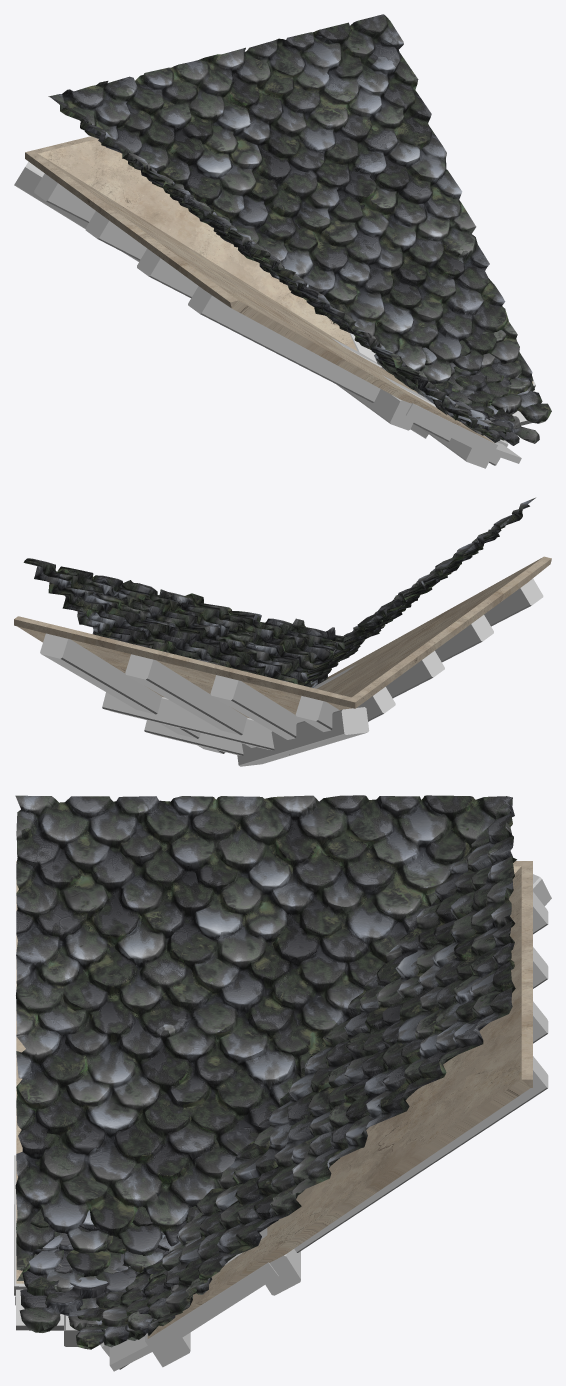
File: SM_Roof_A_13.fbx
The picture shows the model from 3 angles, top to bottom: view 1: azimuth 30°, elevation 25°; view 2: azimuth 150°, elevation 25°; view 3: azimuth 270°, elevation 25°; orthographic projection. The views are drawn at different scales.
Parts seen in each view (by area): view 1: SM_Roof_A_13_LOD0; view 2: SM_Roof_A_13_LOD0; view 3: SM_Roof_A_13_LOD0.
Boxes of the visible parts, x1,y1,x2,y2 form: SM_Roof_A_13_LOD0: (14, 14, 551, 468); SM_Roof_A_13_LOD0: (14, 497, 551, 766); SM_Roof_A_13_LOD0: (14, 795, 551, 1371).
Size of the model in its own units: 417 by 416 by 333.
